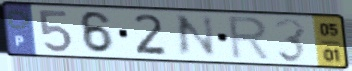2: (135, 13, 171, 57)
3: (272, 16, 311, 64)
5: (36, 9, 76, 54)
6: (77, 10, 117, 55)
N: (174, 13, 219, 60)
R: (226, 15, 274, 64)
